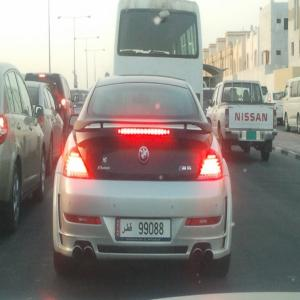Vehicle-registration-plate: (114, 219, 182, 253), (247, 131, 257, 142)
